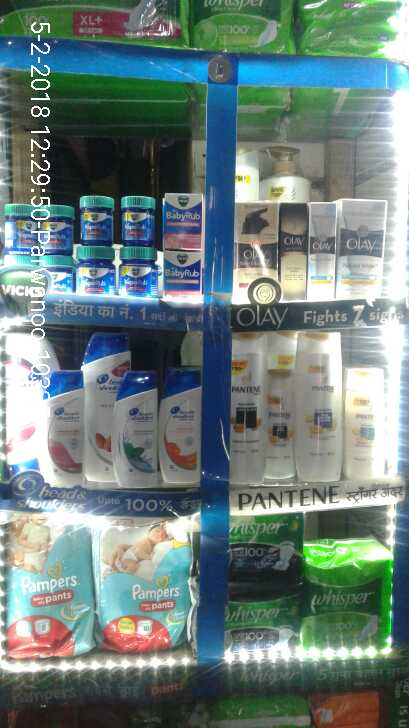vicks: (1, 185, 210, 291)
